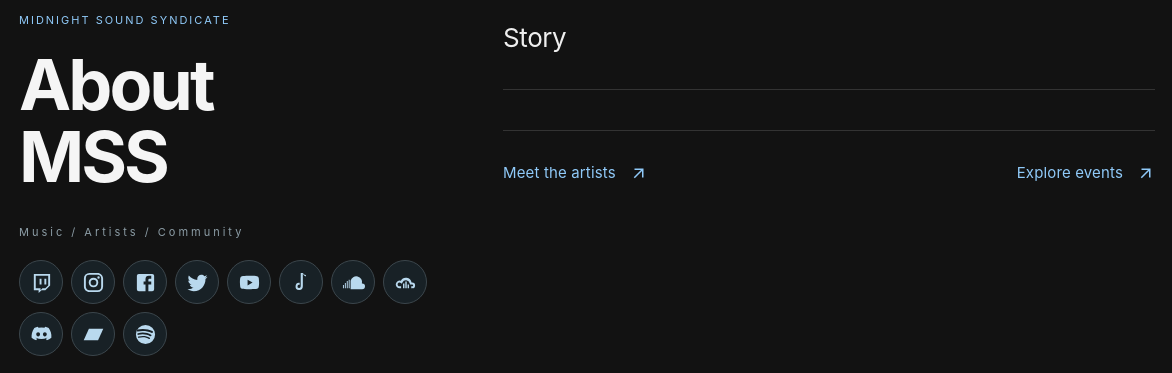
renders every configured supported social link as an accessible safe external icon
expect the text "Story" is shown: met, box [503,18,1155,90]
Hover over the link named "Twitch" at point(41, 282), box [19,260,63,304]
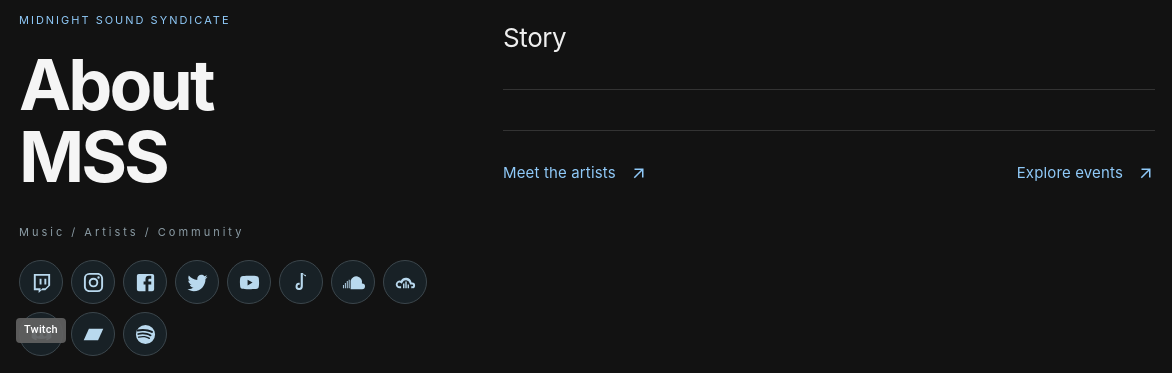
expect the tooltip reads "Twitch": met, box [24,323,58,336]
